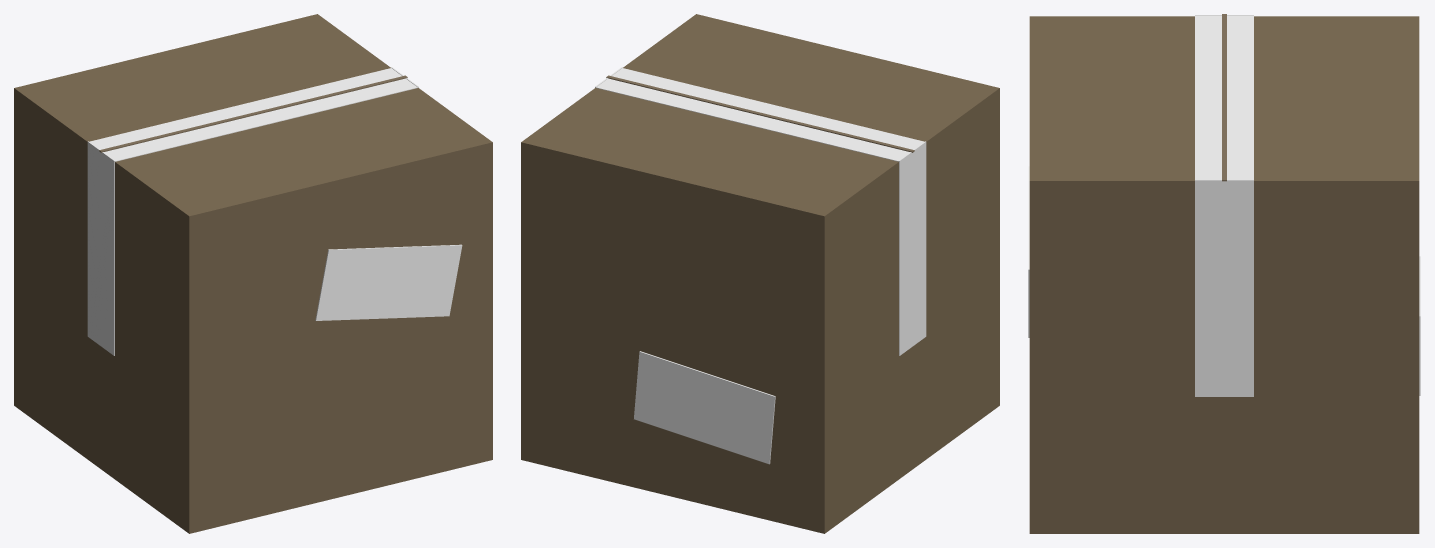
3 views of the same model, side by side, from view 1: azimuth 30°, elevation 25°; view 2: azimuth 150°, elevation 25°; view 3: azimuth 270°, elevation 25° (orthographic). The views are drawn at different scales.
Visible parts, largest first — view 1: Cube, Cube.007, Cube.003, Cube.001, Cube.004; view 2: Cube, Cube.008, Cube.003, Cube.001, Cube.004; view 3: Cube, Cube.002, Cube.003, Cube.004.
Part boxes in pixels (x1,y1,x2,y2): Cube: (14, 14, 492, 533); Cube.007: (315, 244, 462, 320); Cube.003: (90, 68, 418, 161); Cube.001: (87, 141, 115, 355); Cube.004: (99, 75, 407, 152); Cube: (521, 14, 999, 533); Cube.008: (634, 351, 775, 464); Cube.003: (596, 68, 923, 161); Cube.001: (898, 141, 926, 355); Cube.004: (606, 75, 914, 152); Cube: (1029, 16, 1419, 533); Cube.002: (1195, 179, 1253, 396); Cube.003: (1195, 16, 1253, 179); Cube.004: (1222, 14, 1226, 181).
Size of the model in its own units: 202 by 201 by 202.
